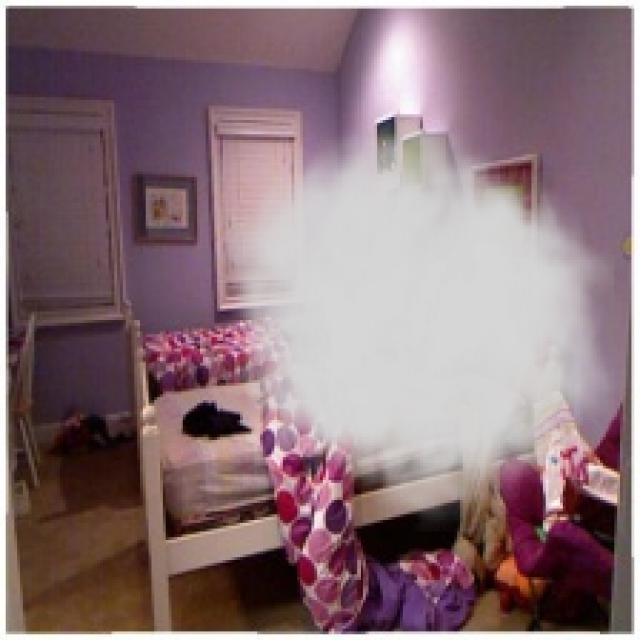smoke: (209, 106, 614, 531)
